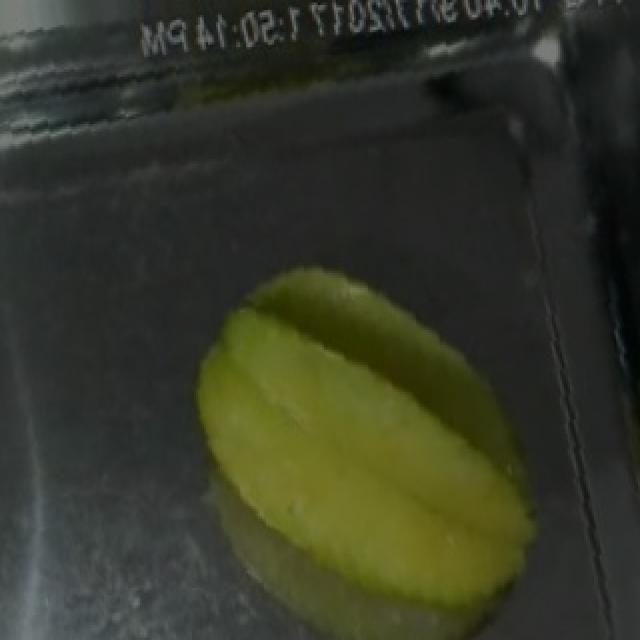fruit: (156, 263, 580, 640)
